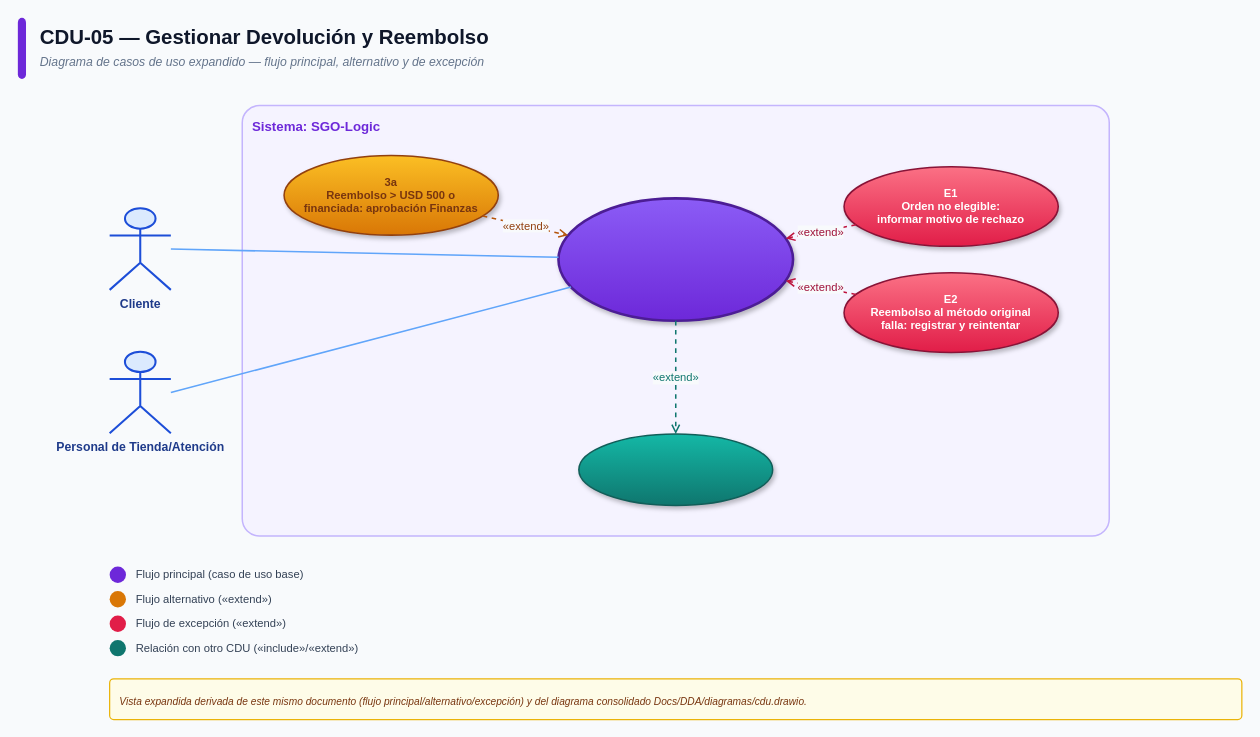
This 1260x737 diagram has some shape labels left out. Each missing label, with the centre of its shape:
"CDU-02 Procesar Pago de la Orden" belongs at (x=676, y=471).
"CDU-05 Gestionar Devolución y Reembolso" belongs at (x=676, y=261).
